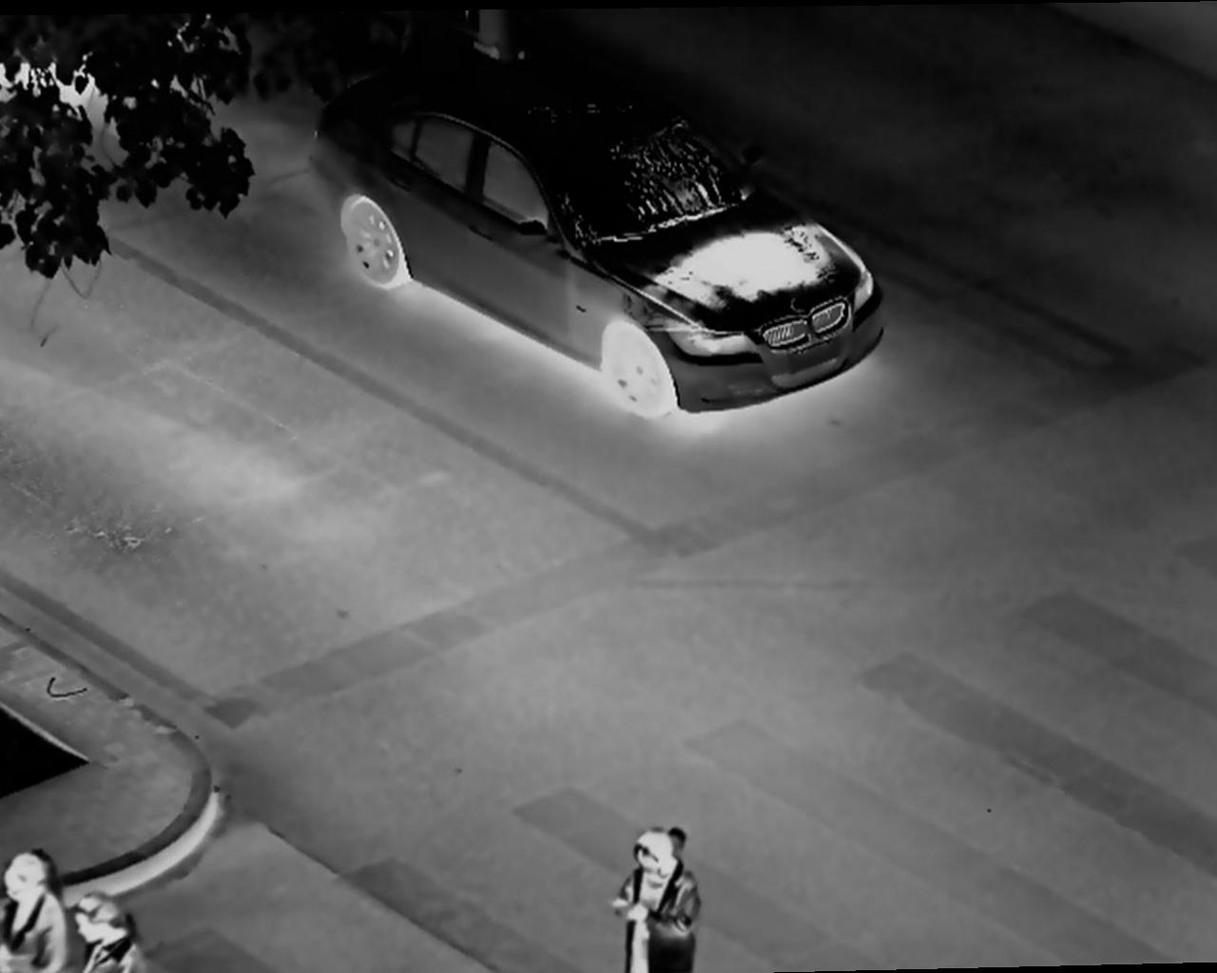person: (615, 821, 708, 973), (5, 832, 68, 973), (62, 879, 147, 973)
